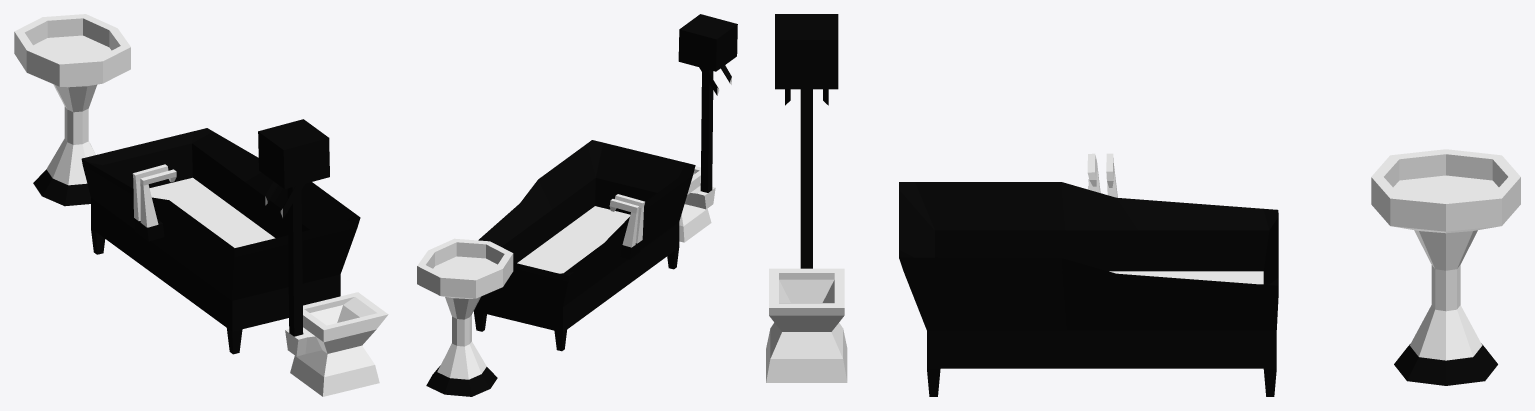
Rendered from assetBathroom.fbx.
The picture shows the model from 3 angles, left to right: view 1: azimuth 30°, elevation 25°; view 2: azimuth 150°, elevation 25°; view 3: azimuth 270°, elevation 25°; orthographic projection. The views are drawn at different scales.
Parts seen in each view (by area): view 1: Bath, Toilet, Sink; view 2: Bath, Sink, Toilet; view 3: Bath, Sink, Toilet.
Part boxes in pixels (x1=…): Bath: x1=81, y1=128, x2=360, y2=354; Toilet: x1=258, y1=119, x2=388, y2=396; Sink: x1=14, y1=14, x2=130, y2=206; Bath: x1=473, y1=140, x2=695, y2=351; Sink: x1=417, y1=238, x2=513, y2=396; Toilet: x1=678, y1=14, x2=737, y2=242; Bath: x1=899, y1=153, x2=1278, y2=396; Sink: x1=1371, y1=149, x2=1520, y2=385; Toilet: x1=766, y1=14, x2=847, y2=382.
Size of the model in its own units: 9.58 by 16.46 by 35.81.
